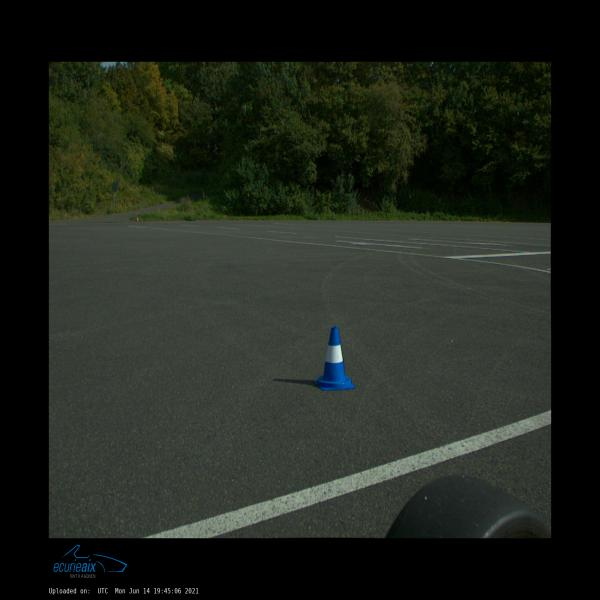blue_cone: (314, 325, 355, 391)
